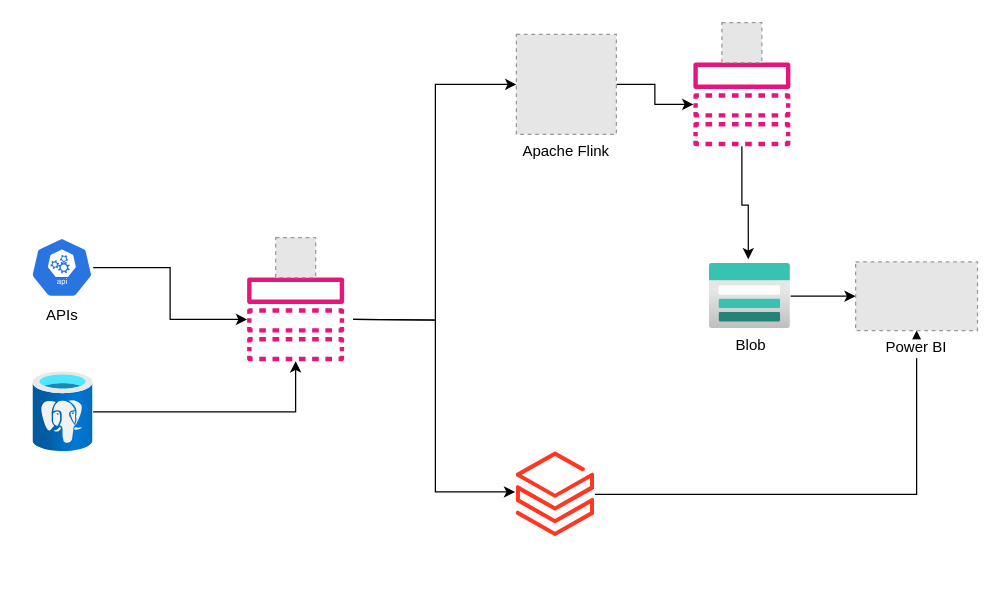
Image size: 1000x603. Some labels were removed from this diagram. Grey dashed boxes stand in for pictures. Each missing label, with the centre of its shape:
"Databricks Spark Streaming" goes at (555,493).
"Postgres DB" goes at (62,411).
